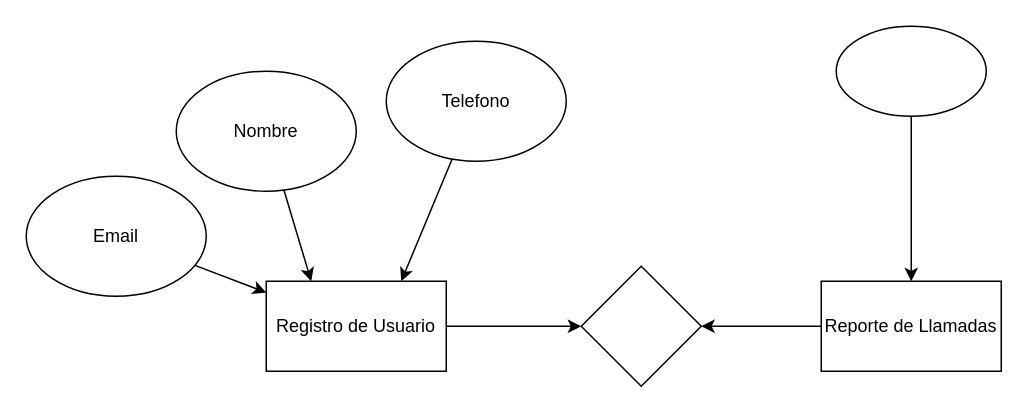
Some shapes in this 1028 by 413 pixel diagram are drawn without their labels. Here are the shapes that lost their labels. From the top down, the centre of each, then its label:
the point at 910,70: Código identificador
the point at 640,325: Registro De Llamadas
